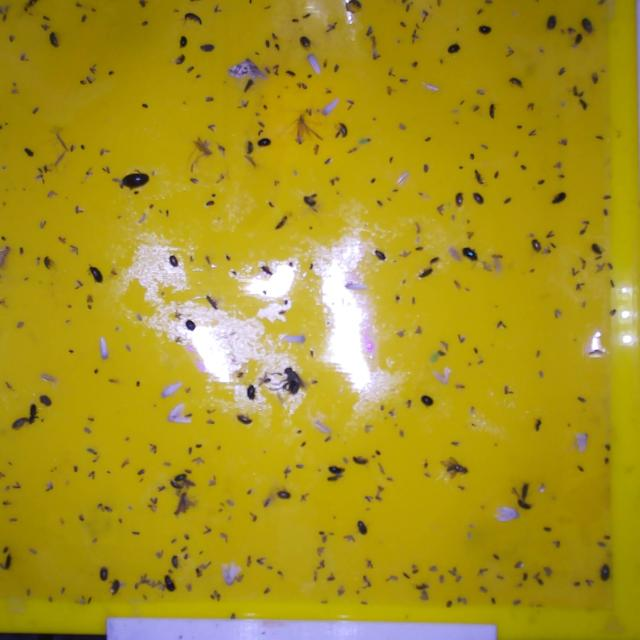Apis sp: (280, 362, 310, 402)
Cofana spectra: (165, 400, 190, 424), (220, 559, 241, 586), (493, 504, 521, 524), (313, 417, 338, 437), (159, 380, 183, 400), (97, 335, 112, 364), (574, 429, 590, 456), (306, 49, 321, 77), (421, 78, 444, 95), (433, 368, 457, 384), (341, 280, 371, 292), (280, 332, 310, 344), (392, 170, 417, 184), (322, 98, 341, 114)
Hydrophilus piceus: (170, 473, 188, 492), (356, 519, 374, 537), (176, 30, 191, 51), (98, 564, 114, 583), (420, 392, 437, 408), (471, 191, 489, 206), (455, 188, 466, 210), (255, 136, 275, 148), (600, 562, 612, 582), (325, 463, 345, 473)
Metoeca foedalis: (229, 58, 266, 80)
Micronecta sp: (199, 39, 224, 57), (434, 200, 450, 218), (402, 396, 417, 412), (396, 248, 415, 260), (147, 441, 162, 456), (325, 571, 340, 585), (457, 331, 471, 345), (476, 566, 491, 579), (207, 474, 220, 489), (298, 490, 311, 504), (557, 136, 572, 148), (583, 577, 598, 589), (18, 50, 31, 63), (7, 32, 20, 45), (342, 533, 359, 542), (570, 265, 582, 277), (174, 308, 185, 321), (544, 230, 558, 240), (506, 44, 515, 59), (283, 464, 292, 478), (89, 64, 100, 75), (576, 282, 588, 292), (542, 244, 552, 256), (205, 95, 218, 104), (207, 123, 220, 132), (88, 468, 97, 481), (39, 21, 50, 31), (190, 176, 202, 185), (558, 66, 568, 76), (608, 309, 620, 317), (175, 334, 184, 344)
Neoporus sp: (237, 410, 257, 428), (276, 484, 294, 502)
Nylanderiasp: (436, 452, 474, 482)
Ophionea nigrifasciata: (22, 0, 40, 14)
Paederus fuscipes: (272, 212, 292, 232), (473, 167, 485, 186)
Psychoda sp: (174, 492, 195, 518), (204, 293, 223, 315)
